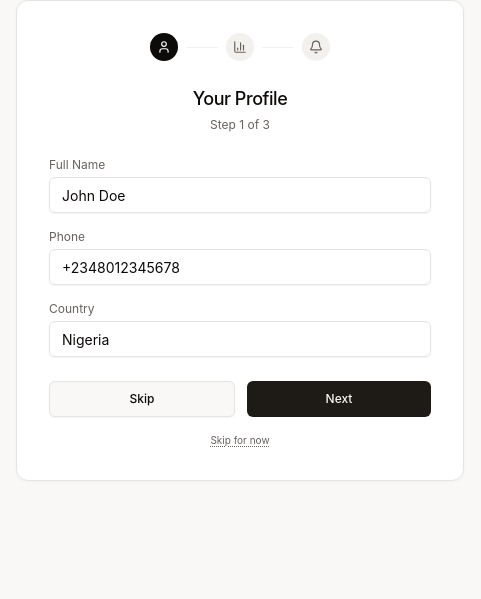
Scenario: Onboarding Page › Step 2 - Trading Experience › advances to step 3 on Complete click
The image size is (481, 599).
Click the button "Next" at (339, 399), box [247,381,431,417]
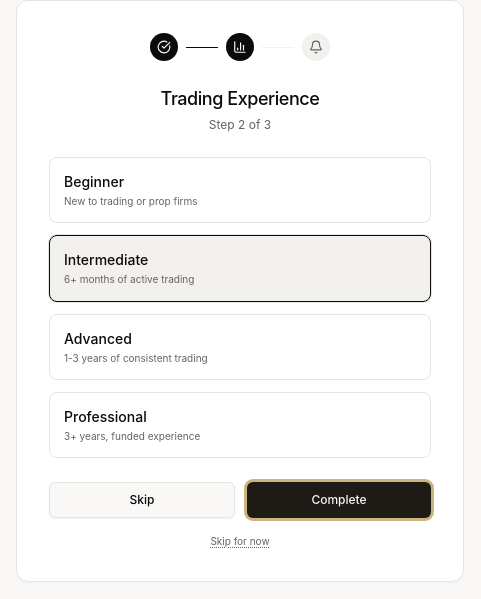
Click the button "Complete" at (339, 500), box [247,482,431,518]
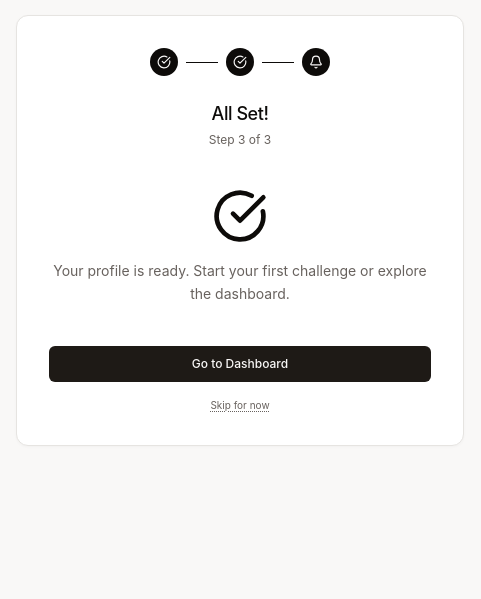
Expected: the heading "All Set!" is shown, [212,103,268,124]
Expected: the text "Step 3 of 3" is shown, [209,132,271,147]
